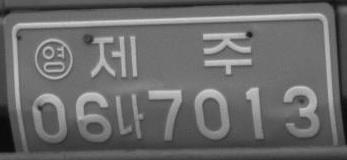0: (193, 86, 231, 142), (31, 91, 67, 145)
1: (238, 86, 274, 140)
3: (282, 84, 319, 139)
6: (74, 90, 112, 143)
7: (147, 88, 184, 141)
나: (113, 93, 144, 140)
영: (34, 37, 73, 80)
제주_D: (88, 30, 252, 78)
